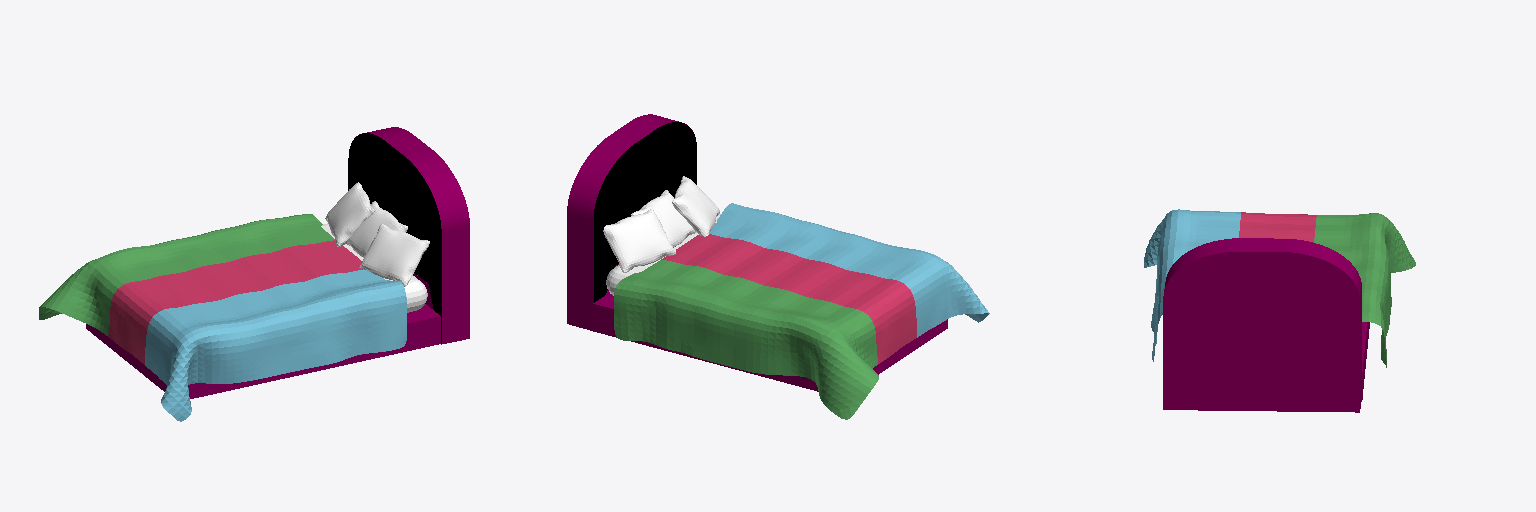
The picture shows the model from 3 angles: view 1: azimuth 30°, elevation 25°; view 2: azimuth 150°, elevation 25°; view 3: azimuth 270°, elevation 25°; orthographic projection.
Parts seen in each view (by area): view 1: polySurface28; view 2: polySurface28; view 3: polySurface28.
Boxes of the visible parts, x1=… form: polySurface28: x1=39, y1=127, x2=469, y2=421; polySurface28: x1=567, y1=114, x2=989, y2=419; polySurface28: x1=1144, y1=209, x2=1415, y2=412.
Bounding box in the file's own units: 11.71 × 5.67 × 8.58.
5 materials, 3 textured.